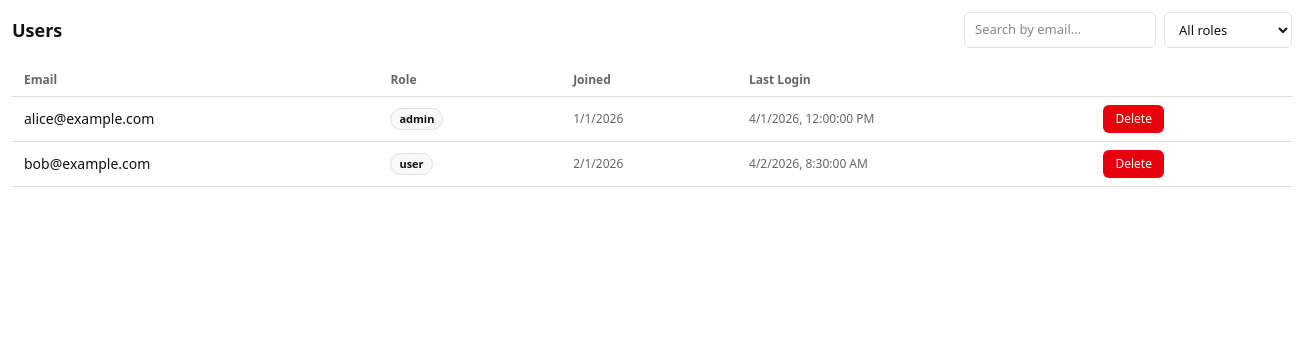
it: UsersPanel › closes detail panel on X click
Click the text "alice@example.com" at (89, 118), box [12,96,378,142]
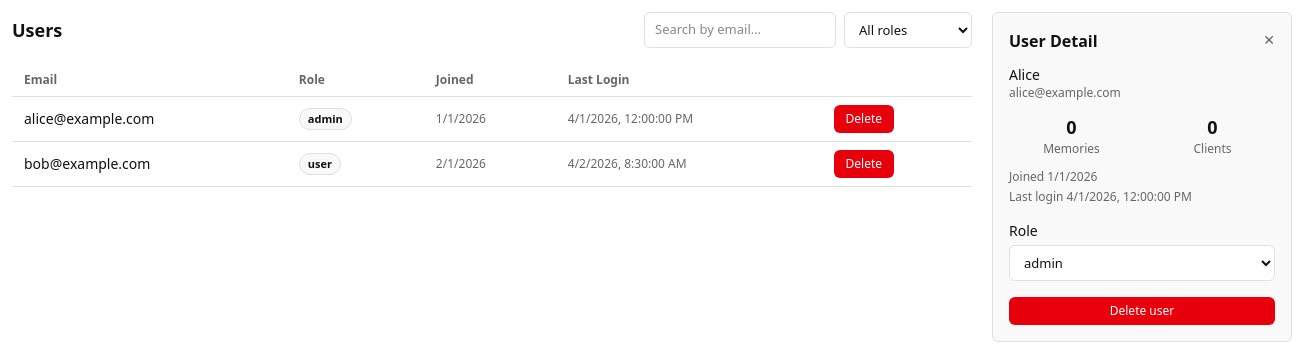
Click the button named "Close detail panel" at (1269, 40), box [1263,29,1275,50]
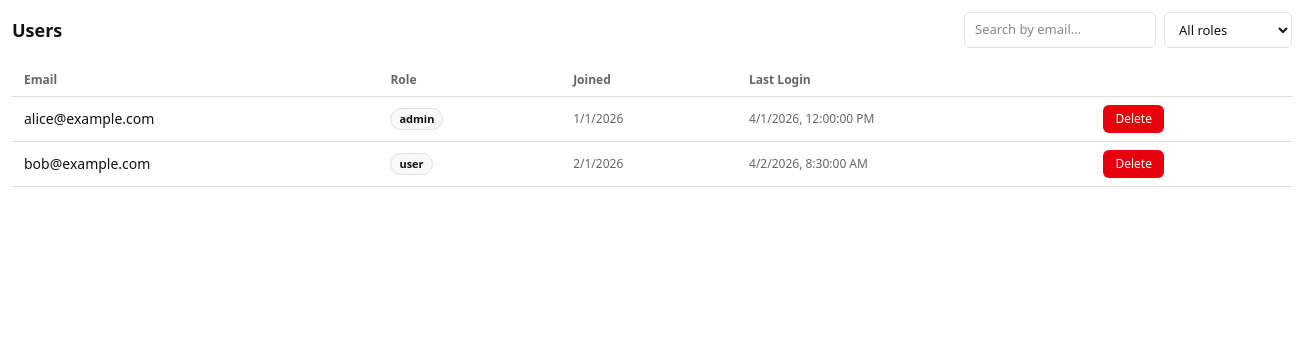
Check: the element with test id "user-detail" is gone
